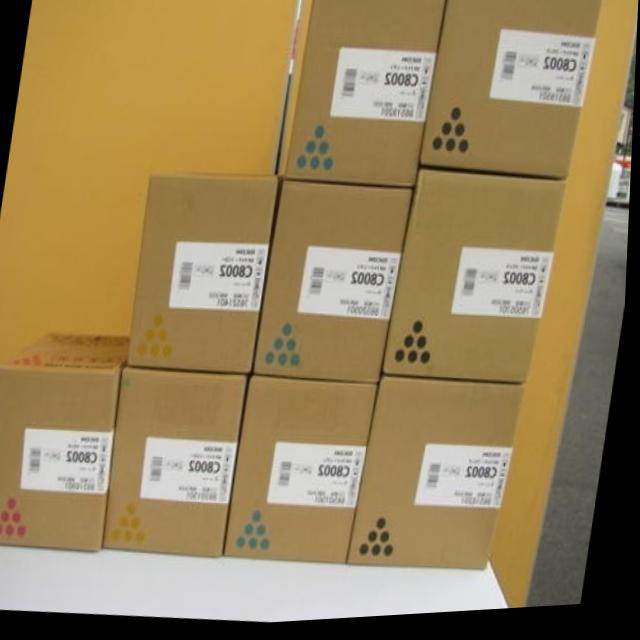box: (383, 170, 569, 395), (420, 0, 605, 189), (350, 377, 526, 575), (255, 182, 414, 388), (128, 172, 282, 378), (281, 0, 447, 190), (230, 378, 382, 568), (0, 334, 133, 550), (107, 368, 252, 562)
